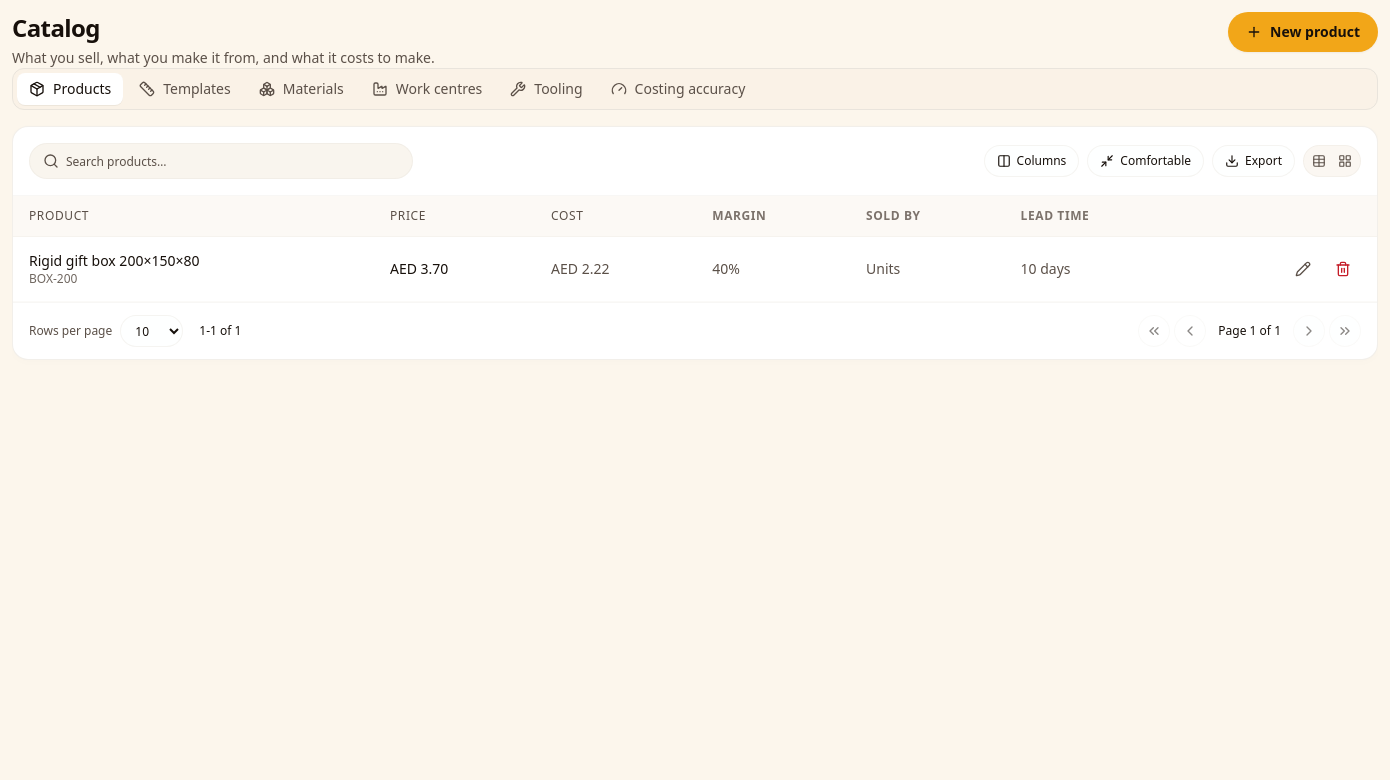
Test: CatalogView › tells an empty work centre list what work centres are for
The image size is (1390, 780).
Click the button "Work centres" at (427, 89), box [360,73,494,105]
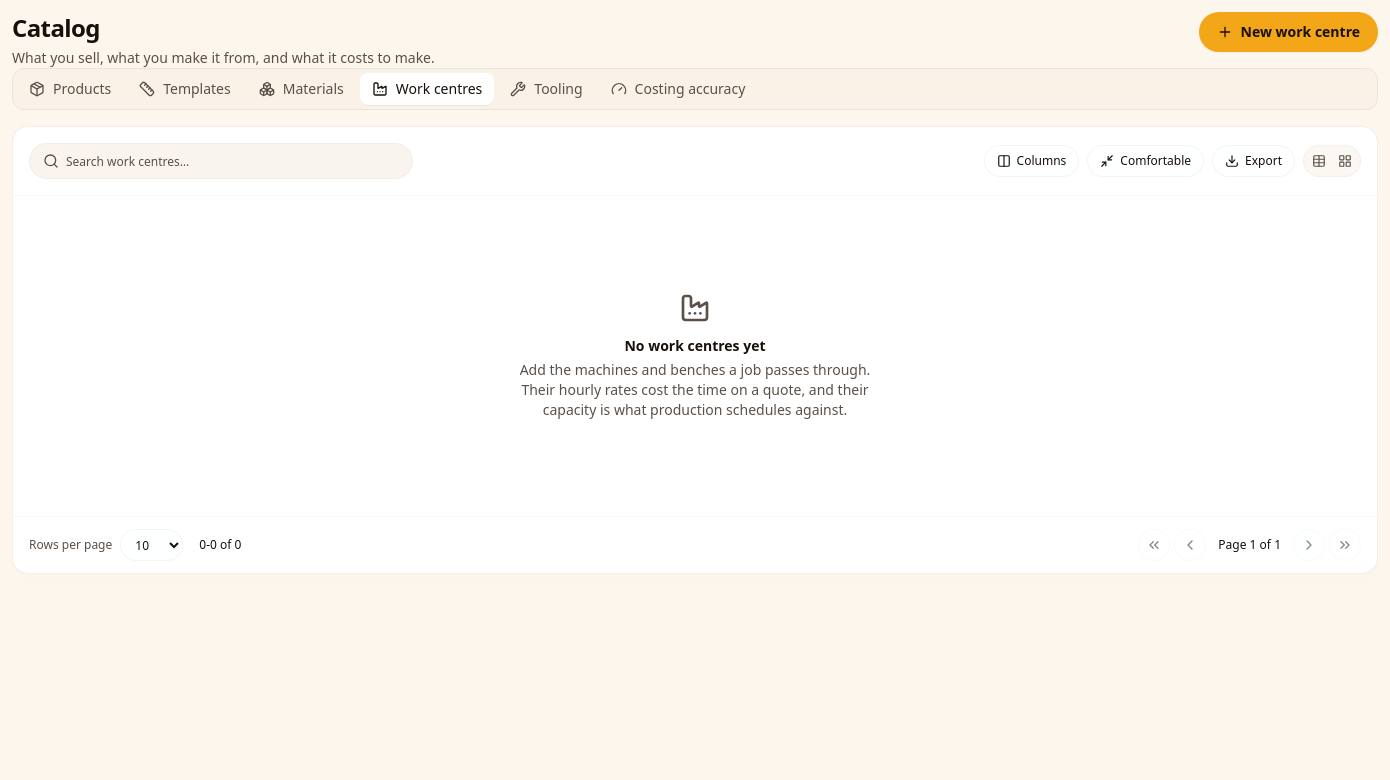
Expected: the text "No work centres yet" is shown, [624,336,766,356]
